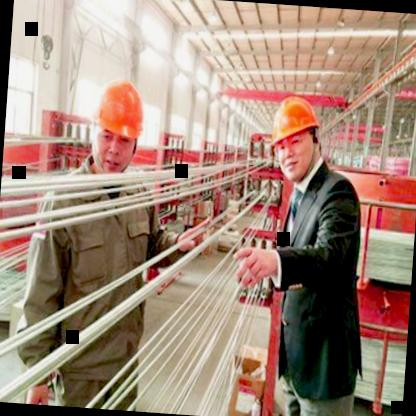helmet: (84, 74, 152, 179), (262, 92, 330, 186)
